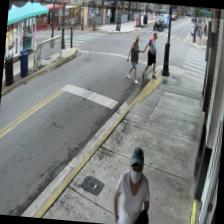person: (111, 145, 154, 224), (125, 33, 145, 84), (141, 31, 160, 79)
